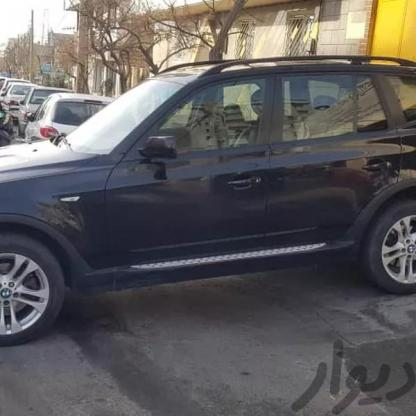Car: (0, 56, 416, 378), (20, 97, 124, 171), (20, 90, 78, 134), (4, 80, 36, 120)
